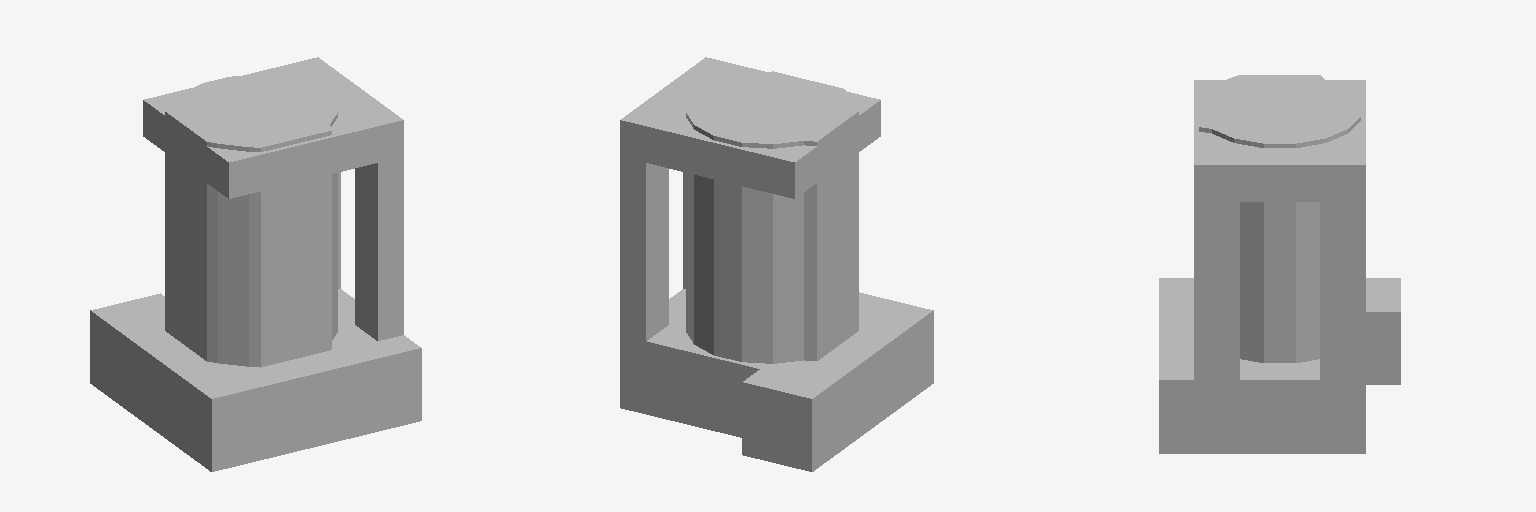
Rendered from flotation_plant.obj.
The picture shows the model from 3 angles: view 1: azimuth 30°, elevation 25°; view 2: azimuth 150°, elevation 25°; view 3: azimuth 270°, elevation 25°; orthographic projection.
Parts seen in each view (by area): view 1: 11, 7, 12, 6, 4, 8, 2, 9, 3, 10, 5; view 2: 11, 12, 2, 1, 5, 3, 8, 7, 4, 10, 6, 9; view 3: 11, 9, 5, 6, 12, 10, 2, 1, 7, 3, 4.
Part boxes in pixels (bbox=[...]): 11: bbox=[165, 75, 337, 293]; 7: bbox=[191, 342, 386, 471]; 12: bbox=[165, 258, 337, 367]; 6: bbox=[355, 103, 403, 340]; 4: bbox=[206, 110, 377, 198]; 8: bbox=[131, 321, 365, 456]; 2: bbox=[90, 293, 165, 412]; 9: bbox=[338, 289, 421, 428]; 3: bbox=[143, 64, 313, 152]; 10: bbox=[305, 74, 379, 113]; 5: bbox=[292, 57, 340, 288]; 11: bbox=[686, 71, 858, 290]; 12: bbox=[686, 258, 858, 363]; 2: bbox=[742, 360, 852, 471]; 1: bbox=[620, 325, 765, 437]; 5: bbox=[620, 103, 668, 340]; 3: bbox=[646, 110, 817, 198]; 8: bbox=[678, 312, 912, 441]; 7: bbox=[859, 292, 933, 397]; 4: bbox=[710, 64, 880, 151]; 10: bbox=[644, 74, 718, 113]; 6: bbox=[683, 57, 731, 288]; 9: bbox=[669, 289, 685, 326]; 11: bbox=[1199, 75, 1360, 289]; 9: bbox=[1159, 363, 1319, 453]; 5: bbox=[1320, 153, 1365, 379]; 6: bbox=[1194, 153, 1239, 379]; 12: bbox=[1240, 286, 1319, 362]; 10: bbox=[1240, 144, 1319, 201]; 2: bbox=[1366, 278, 1400, 384]; 1: bbox=[1320, 380, 1365, 453]; 7: bbox=[1159, 278, 1193, 362]; 3: bbox=[1320, 80, 1365, 152]; 4: bbox=[1194, 80, 1239, 152].
Bounding box in the file's own units: 3 × 4 × 3.